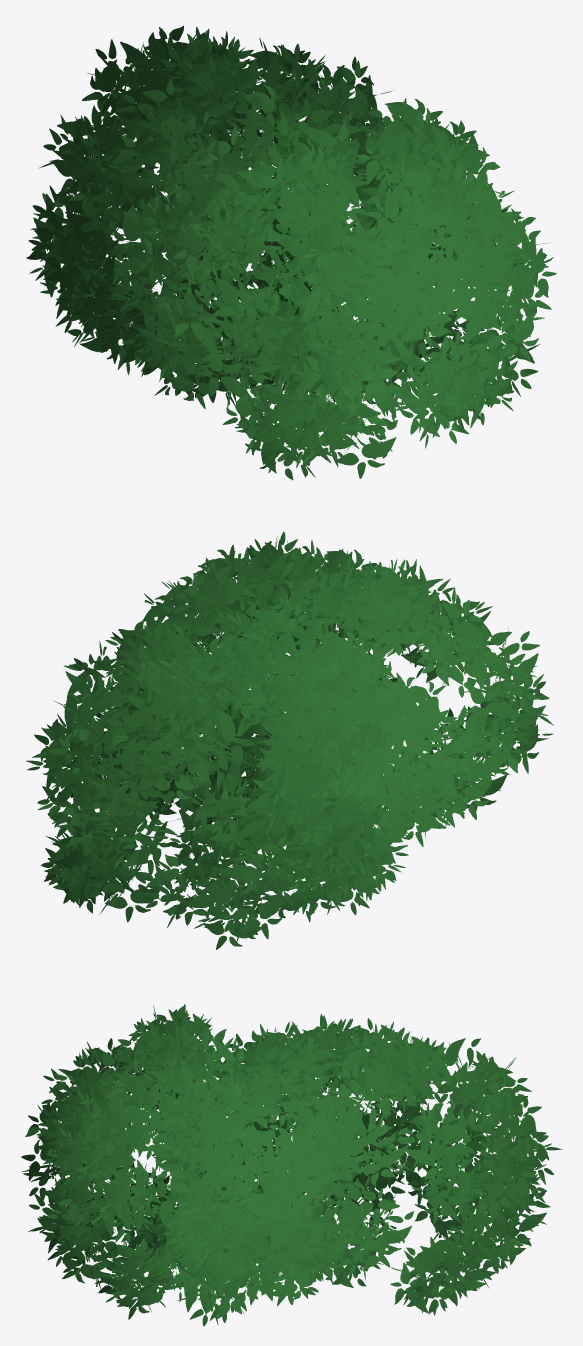
The model's file is Bush.fbx.
3 renders of one model, top to bottom at view 1: azimuth 30°, elevation 25°; view 2: azimuth 150°, elevation 25°; view 3: azimuth 270°, elevation 25°, orthographic. The views are drawn at different scales.
Visible parts, largest first — view 1: Bush; view 2: Bush; view 3: Bush.
Boxes of the visible parts, <box> form: Bush: <box>26,25,556,480</box>; Bush: <box>26,531,553,949</box>; Bush: <box>21,1004,562,1326</box>.
Size of the model in its own units: 191 by 137 by 264.
Materials: 1 (1 with a texture image).
